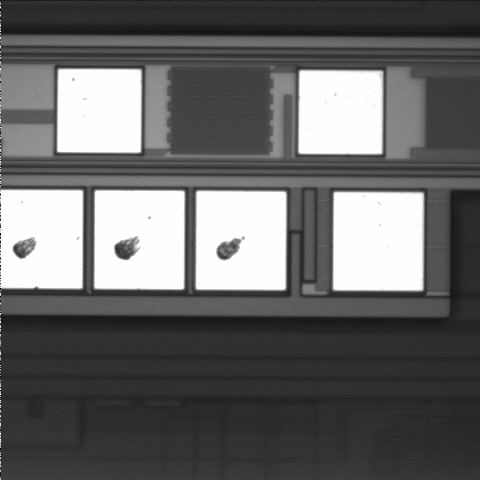pad: (94, 190, 185, 289), (196, 191, 286, 290), (333, 192, 423, 290), (57, 69, 141, 153), (299, 71, 383, 154)
